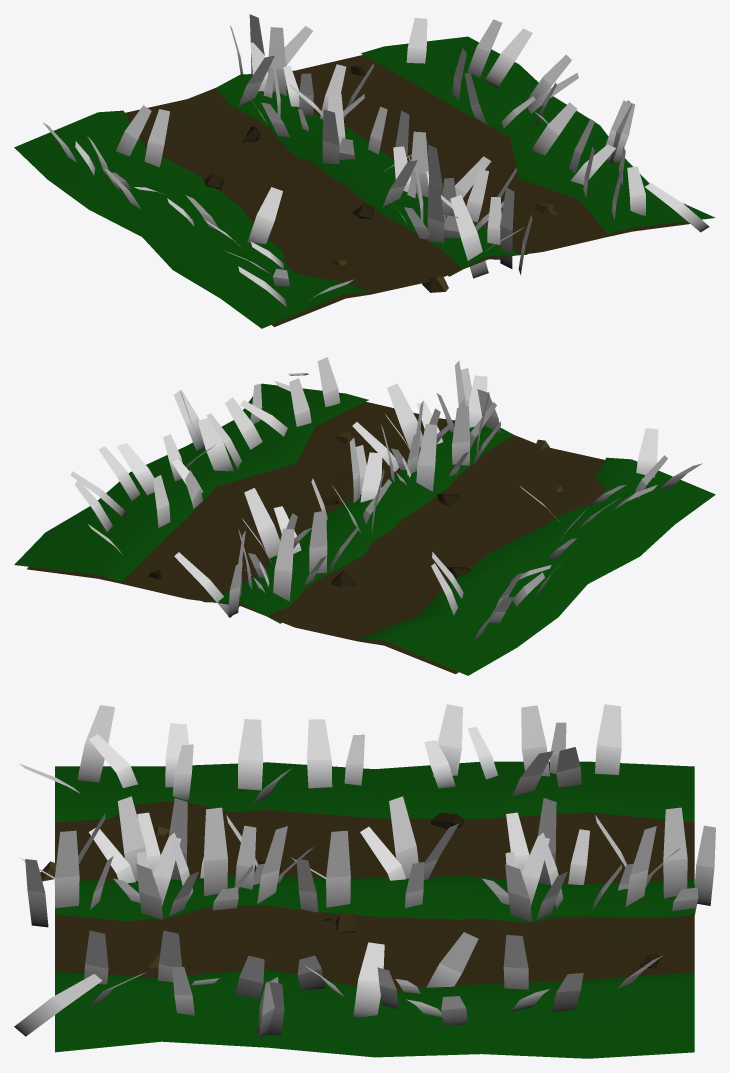
The model's file is Road_straight_01.fbx.
The picture shows the model from 3 angles, top to bottom: view 1: azimuth 30°, elevation 25°; view 2: azimuth 150°, elevation 25°; view 3: azimuth 270°, elevation 25°; orthographic projection. The views are drawn at different scales.
Visible parts, largest first — view 1: Road_01, grass_group01; view 2: Road_01, grass_group01; view 3: Road_01, grass_group01.
Boxes of the visible parts, x1=… form: Road_01: x1=14, y1=36, x2=715, y2=328; grass_group01: x1=43, y1=14, x2=709, y2=307; Road_01: x1=14, y1=383, x2=715, y2=675; grass_group01: x1=70, y1=357, x2=702, y2=641; Road_01: x1=40, y1=761, x2=694, y2=1058; grass_group01: x1=14, y1=704, x2=715, y2=1037.
Size of the model in its own units: 6.33 by 1.12 by 6.32.
